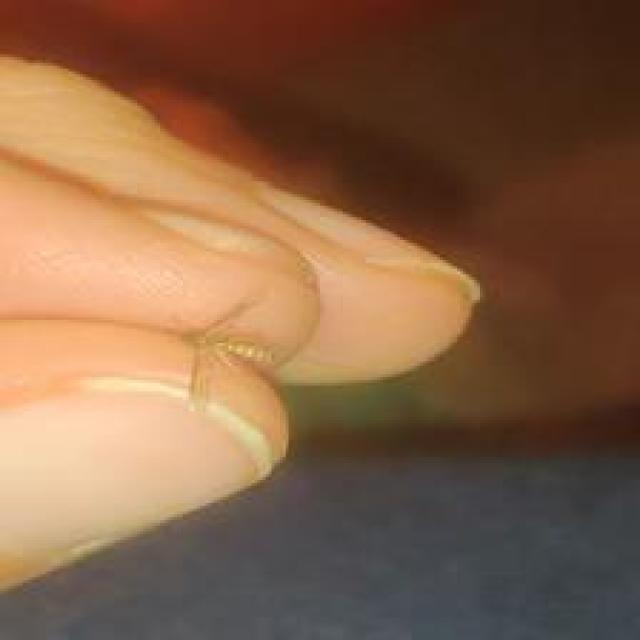Culex: (0, 37, 483, 626)
